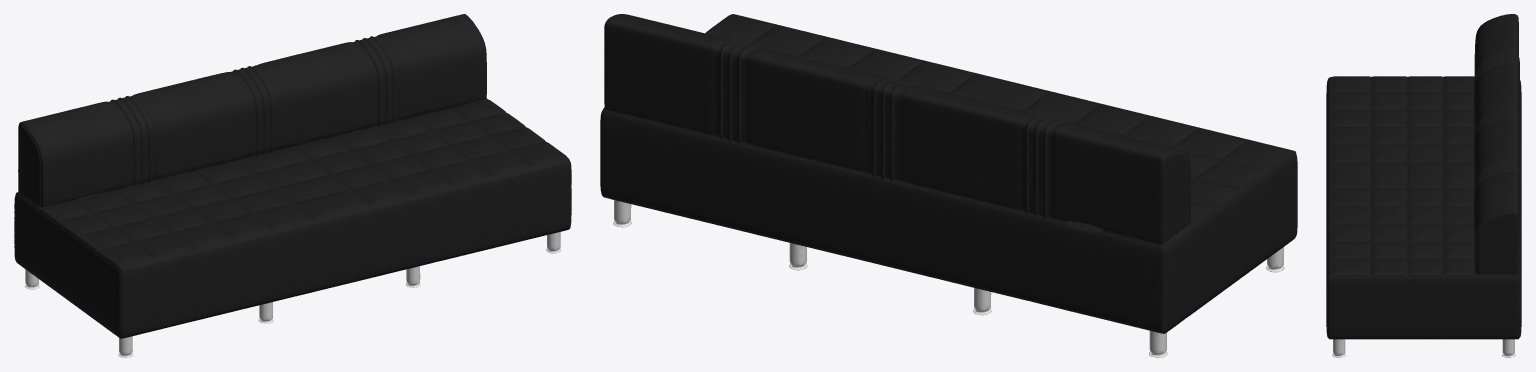
The model's file is Meshy_AI_Midnight_Leather_Sofa_0603095044_texture.glb.
3 views of the same model, side by side, from view 1: azimuth 30°, elevation 25°; view 2: azimuth 150°, elevation 25°; view 3: azimuth 270°, elevation 25° (orthographic). The views are drawn at different scales.
Bounding box in the file's own units: 1.9 × 0.6581 × 0.7815.
1 material, 1 textured.
